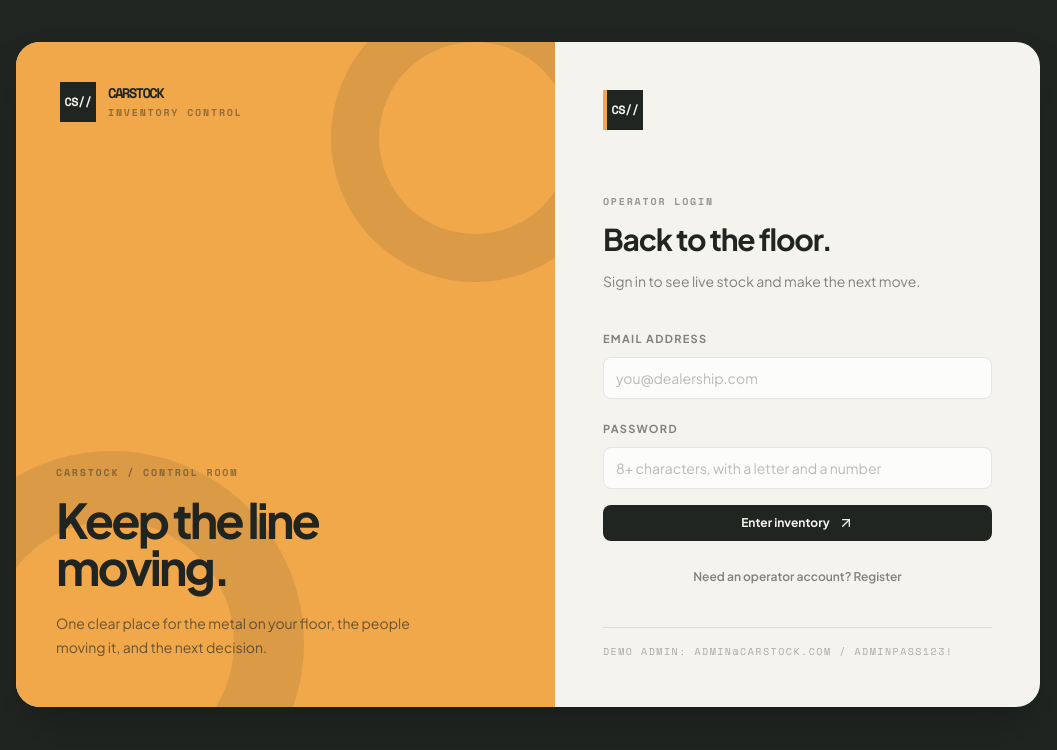
Test: AuthScreen › shows the API error when login fails
In the field labelled "Email address": point(797, 378) left=603, top=356, right=992, bottom=398, type "a@b.com"
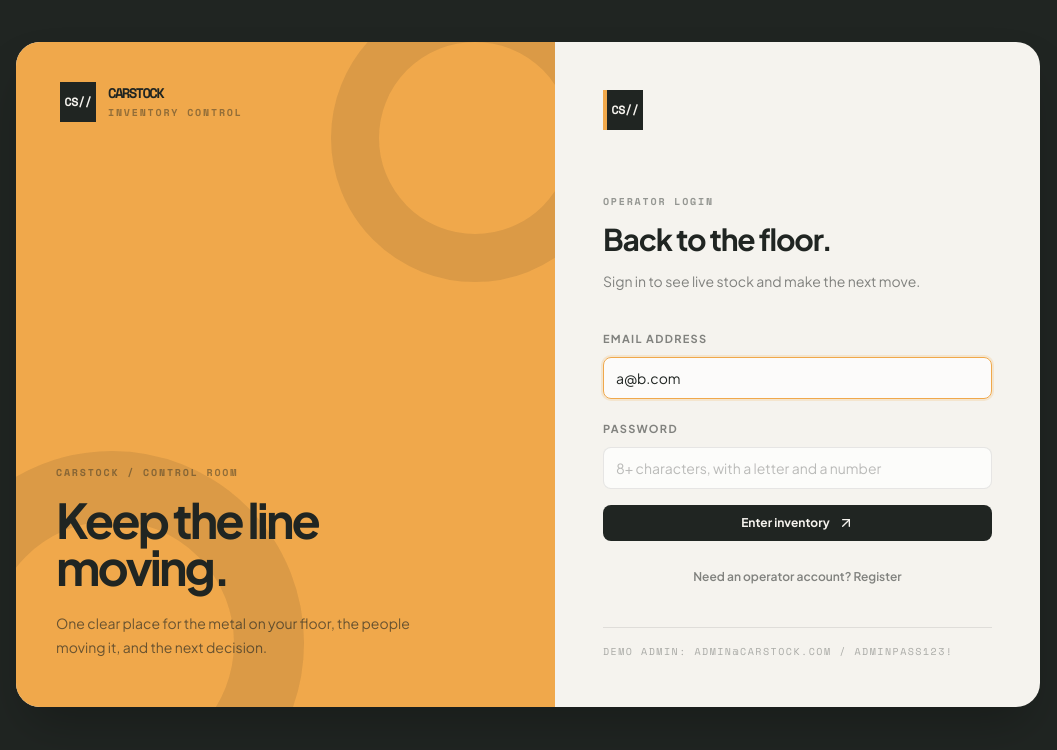
In the password field labelled "Password": point(797, 468) left=603, top=446, right=992, bottom=488, type "WrongPass1"
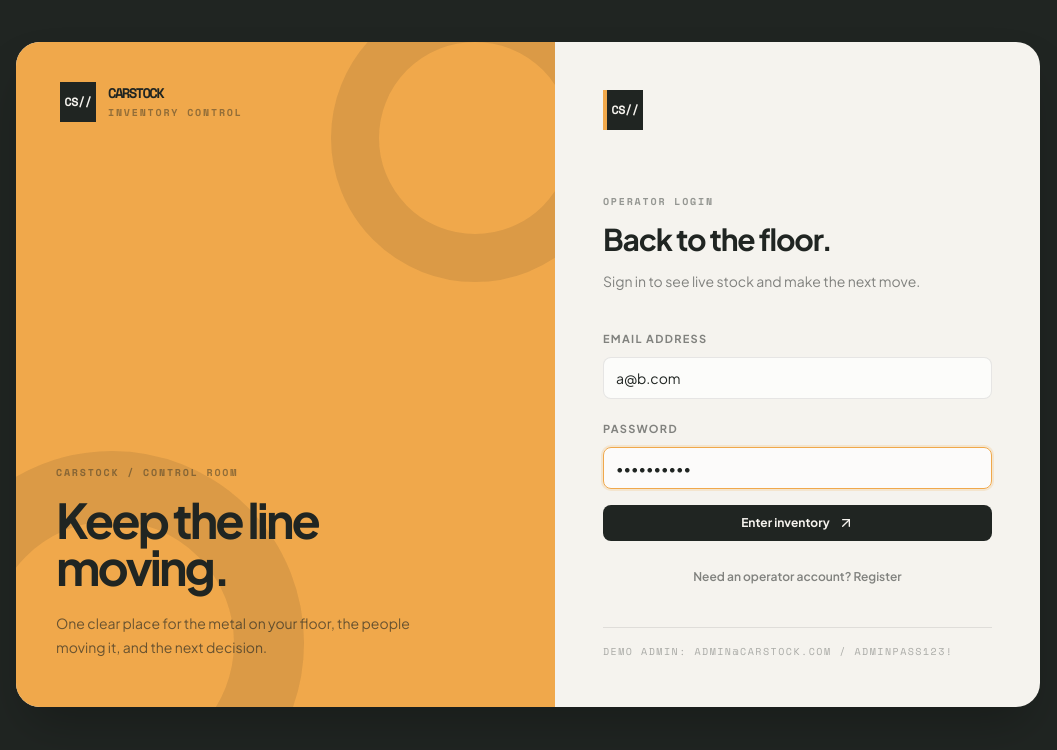
Click the button "Enter inventory": point(797, 522) left=603, top=504, right=992, bottom=540
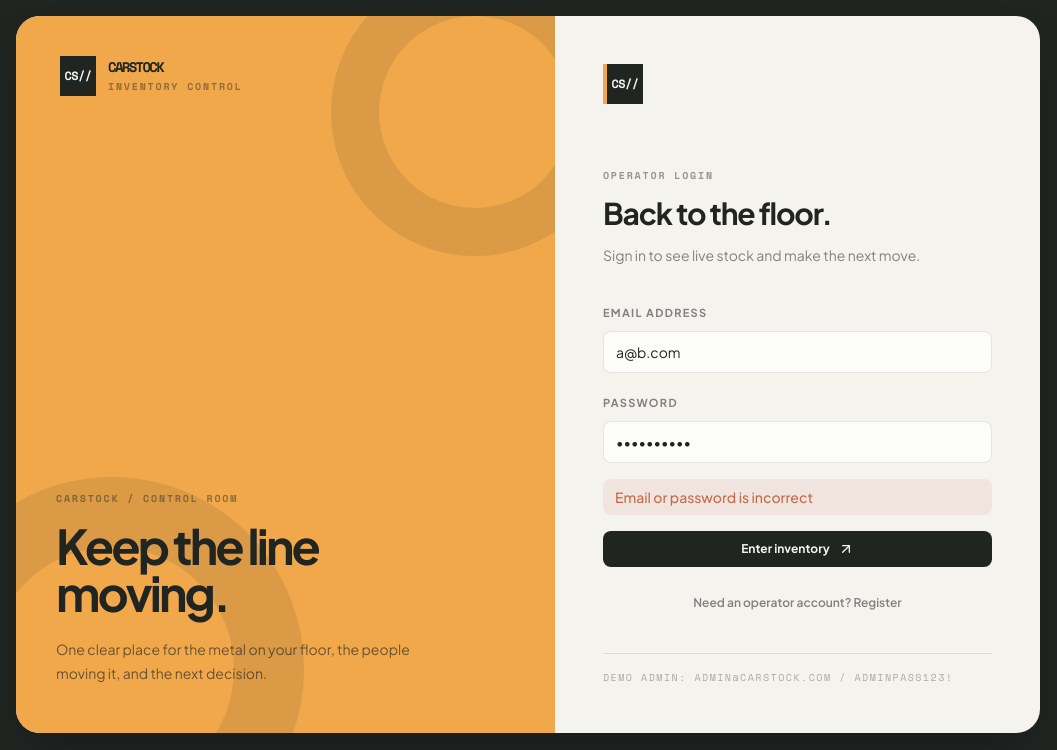
Result: the message reads "Email or password is incorrect" at left=615, top=488, right=813, bottom=506
